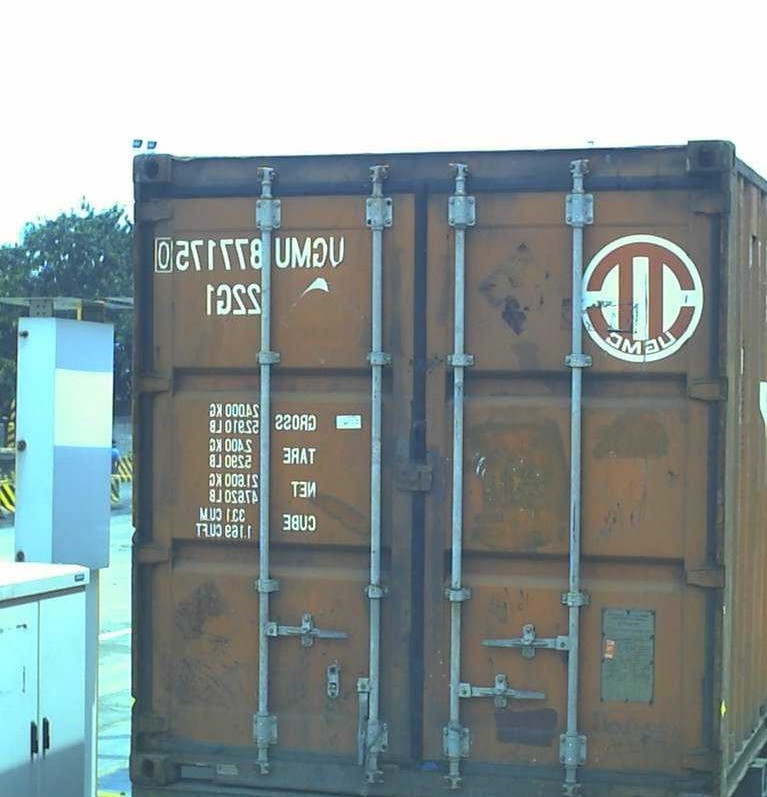container_door: (131, 139, 729, 797)
